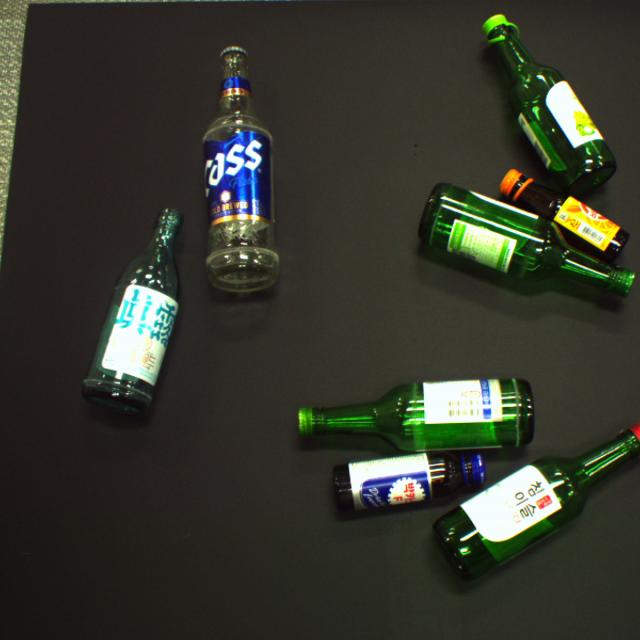beer-bottle: (202, 46, 280, 293)
soju-bottle: (432, 421, 639, 581), (418, 182, 637, 298), (482, 14, 618, 196), (79, 207, 183, 421), (298, 378, 534, 452)
